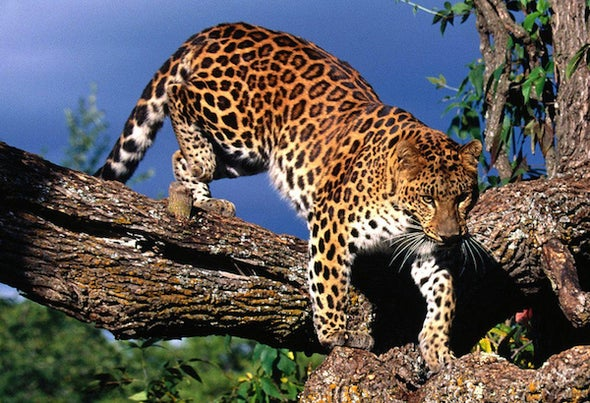amur_leopard: (344, 131, 491, 257)
